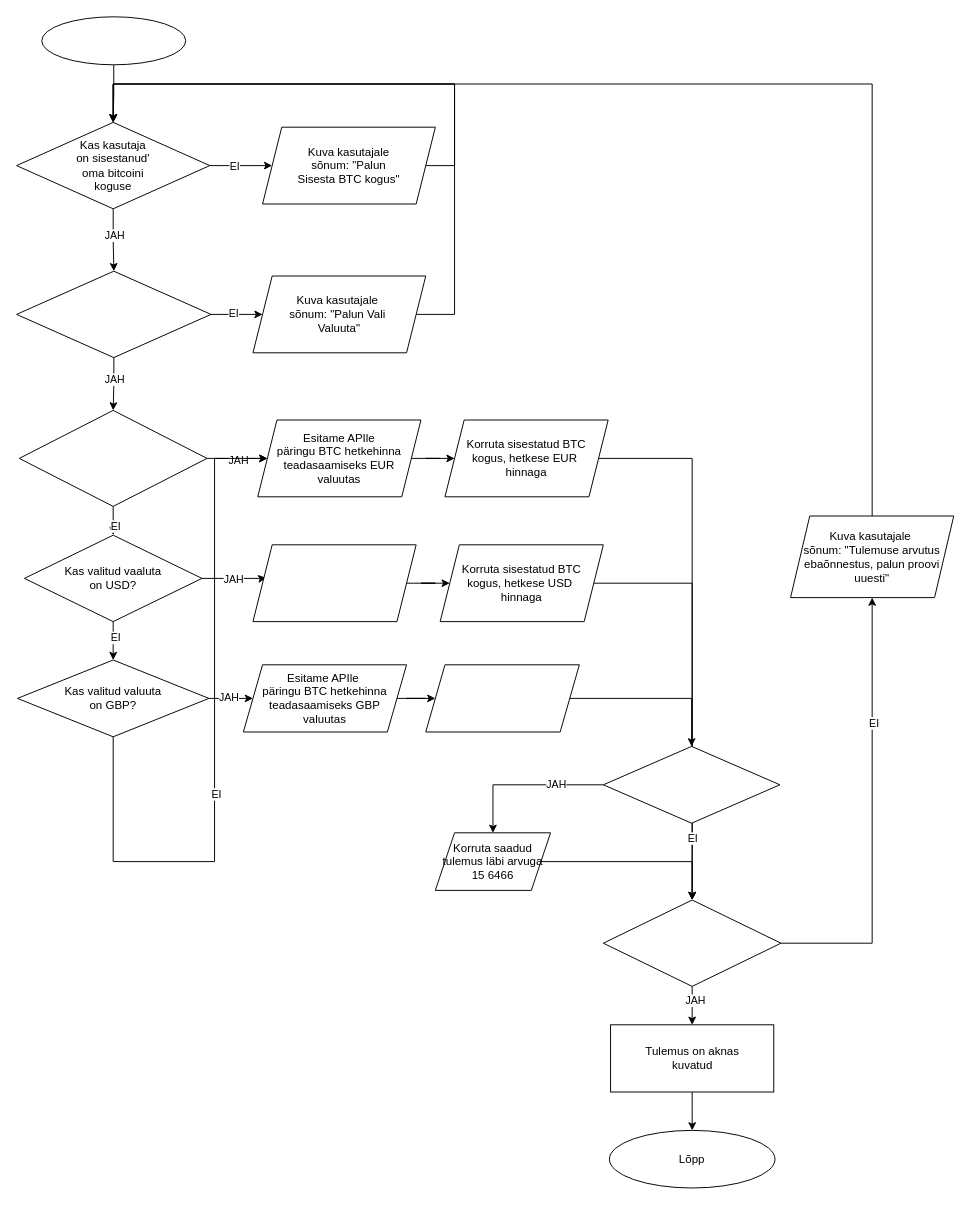
Some shapes in this 972 by 1205 pixel diagram are drawn without their labels. The shapes that lost their labels are listed below. From the top down, each one's centre as x and y in pixels, then its label:
At pixel 113 40: "Algus".
At pixel 113 314: "Kas kasutaja on valinud sihtvaluuta?".
At pixel 112 457: "Kas valitud valuuta on EUR?".
At pixel 334 583: "Esitame APIle päringu BTC hetkehinna teadasaamiseks USD valuutas".
At pixel 502 698: "Korruta sisestatud BTC kogus, hetkese GBP hinnaga".
At pixel 691 784: "Kas valitud valuuta on EEK?".
At pixel 691 942: "Kas arvutus teostati edukalt".
